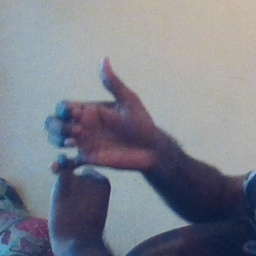S: (44, 55, 139, 210)
